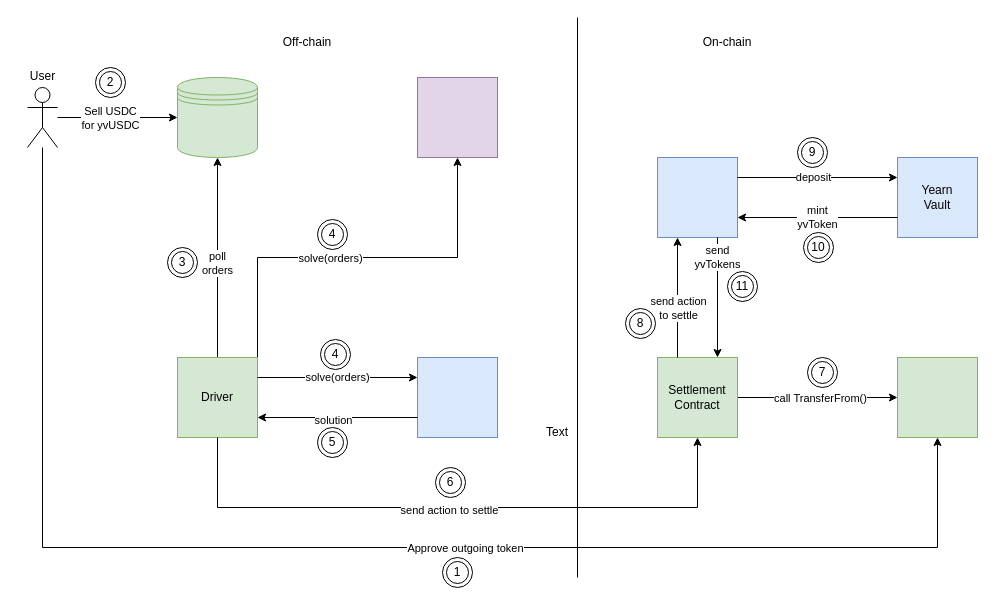
The diagram is 995 pixels wide and 605 high, and some of its shapes have lost their labels. Here are the shapes that lost their labels. From the top down, the centre of each, then its label:
pixel 217 117: order book
pixel 457 117: other solver
pixel 697 197: Yearn Solver Helper
pixel 457 397: Yearn Solver
pixel 937 397: Relayer Contract
